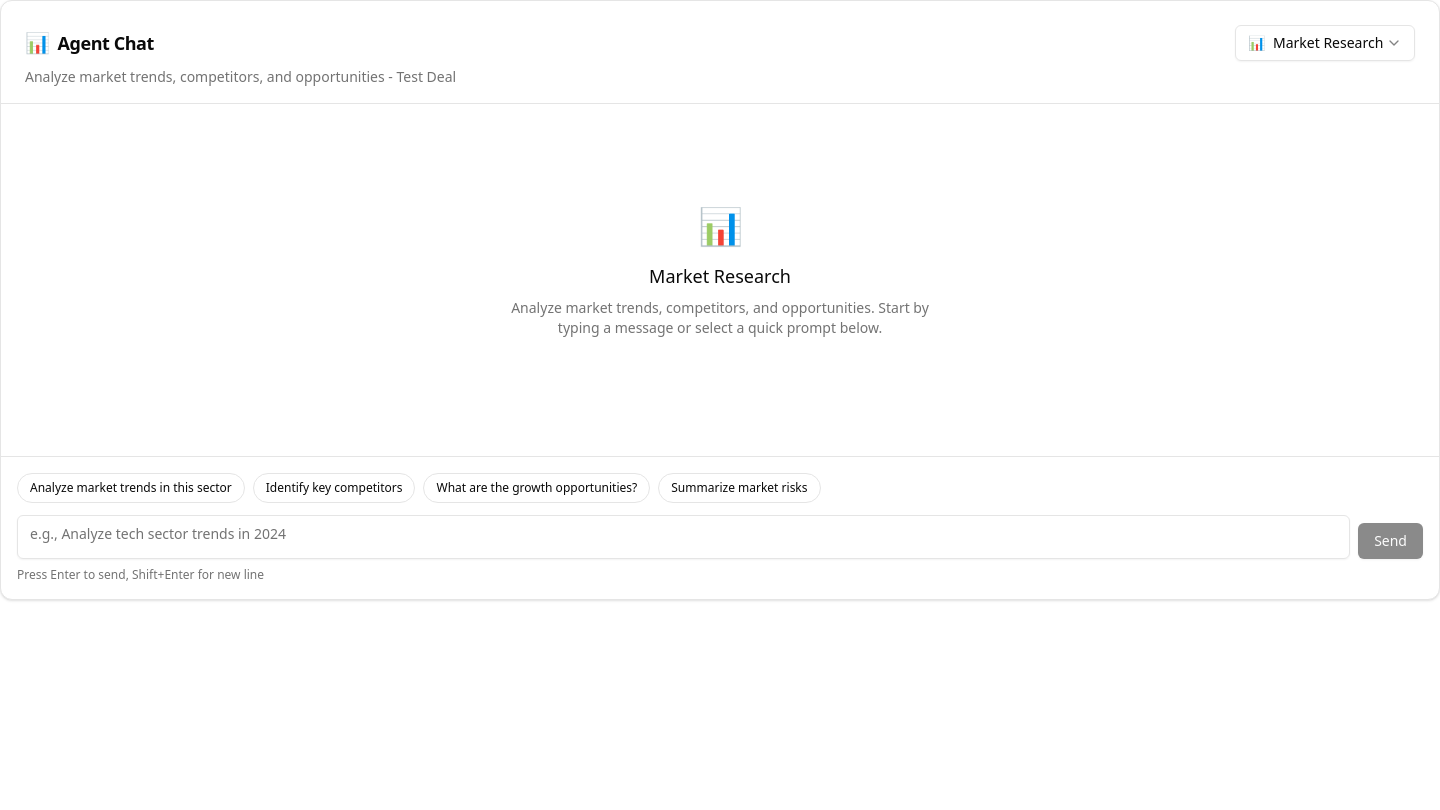
AgentChat › sends message and displays loading indicator
This screenshot has width=1440, height=810.
# Type a message
In the text box with placeholder "e.g., Analyze tech sector trends in 2024": (684, 537) [17,515,1350,559], type "What are the market trends?"
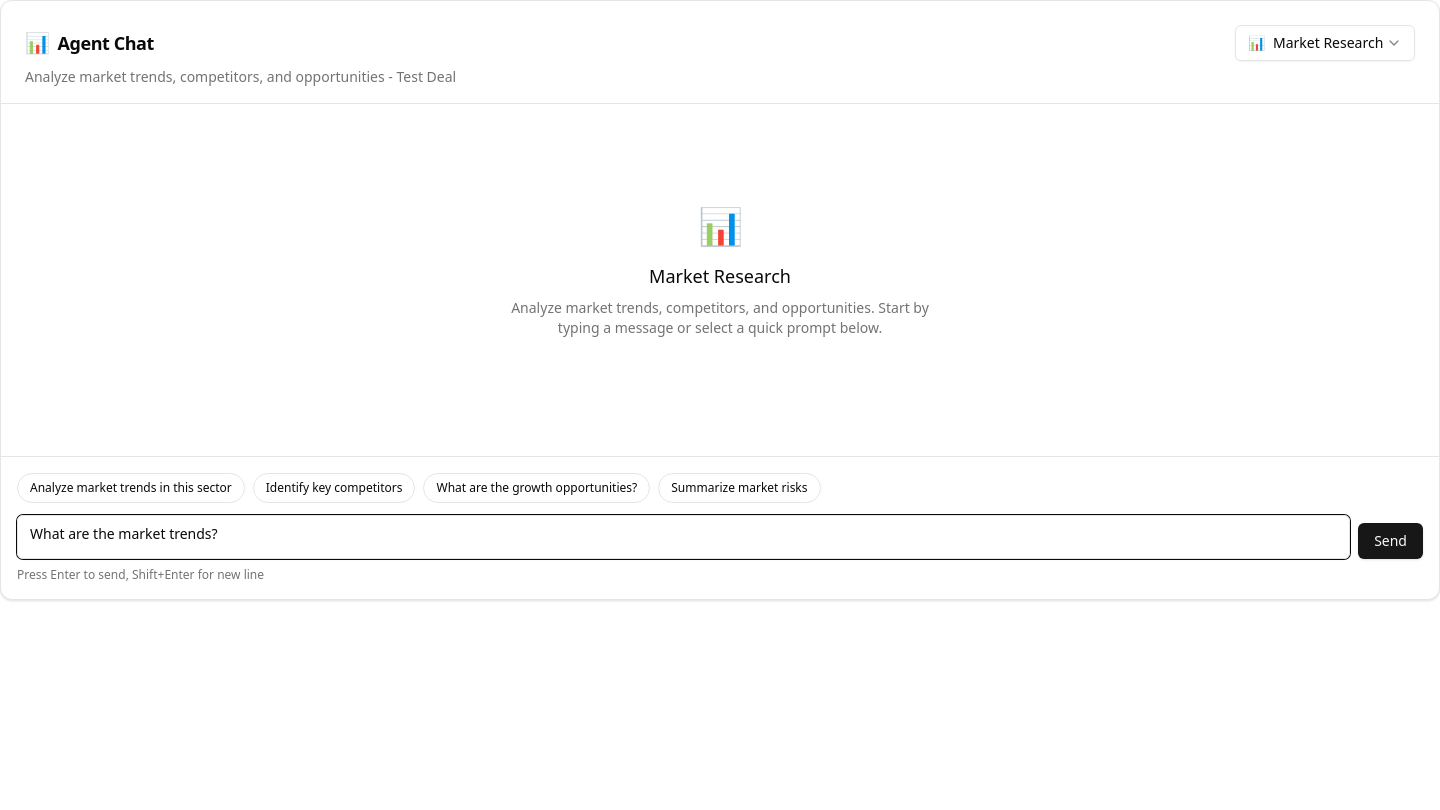
# Click send
Click the button "Send": (1391, 541) [1358,523,1423,559]
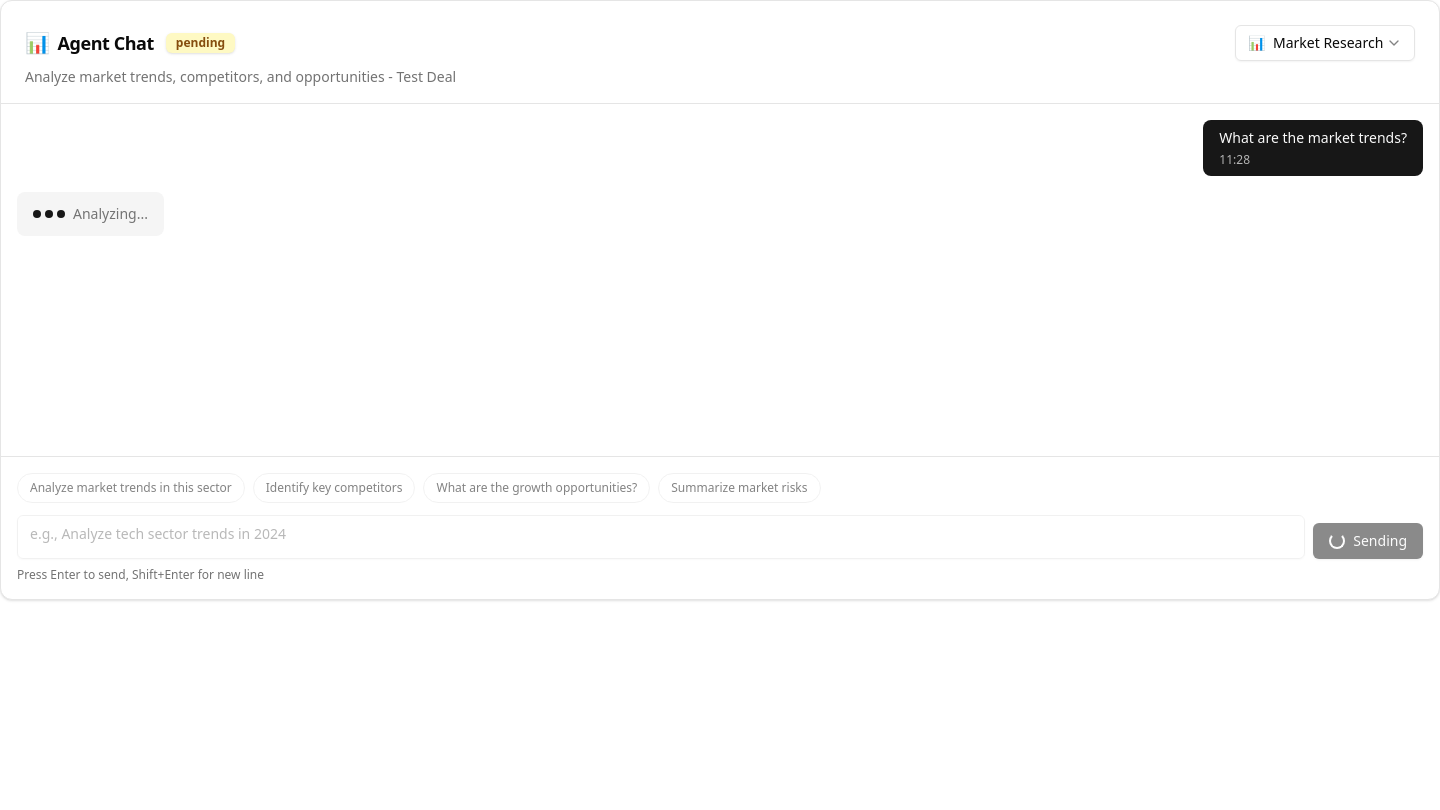
expect the text "Analyzing..." is shown: met, box [73,204,148,224]
